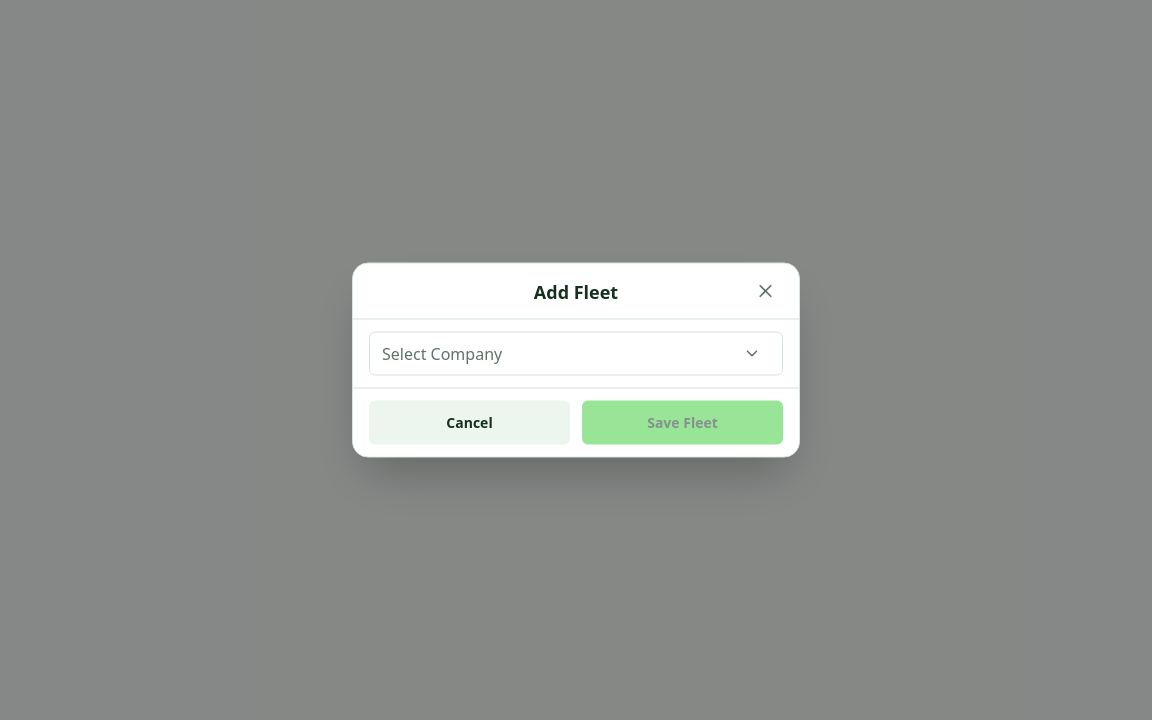
Test: ActiveFleetAddSheet › reveals paired Company/Pile fields and defaults to New Fleet after a valid Pile
Click the dropdown labelled "Company". click: (554, 354)
box: [382,342,726,366]
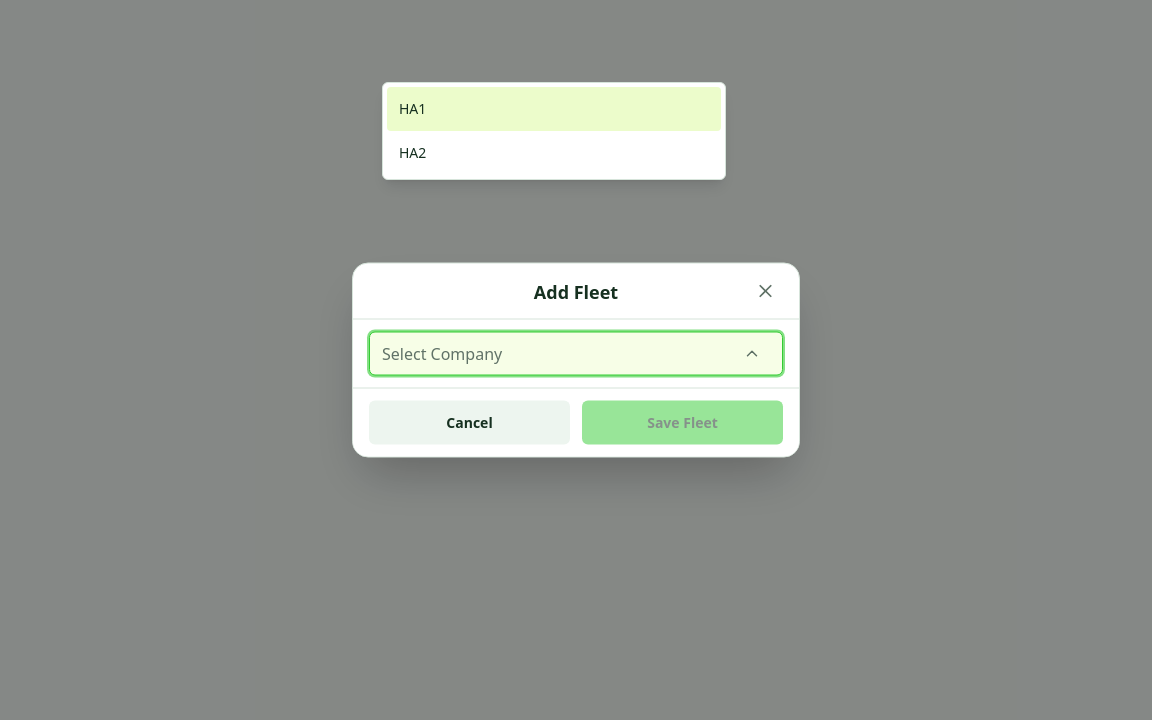
Click the option "HA1". click: (413, 108)
box: [387,86,721,130]
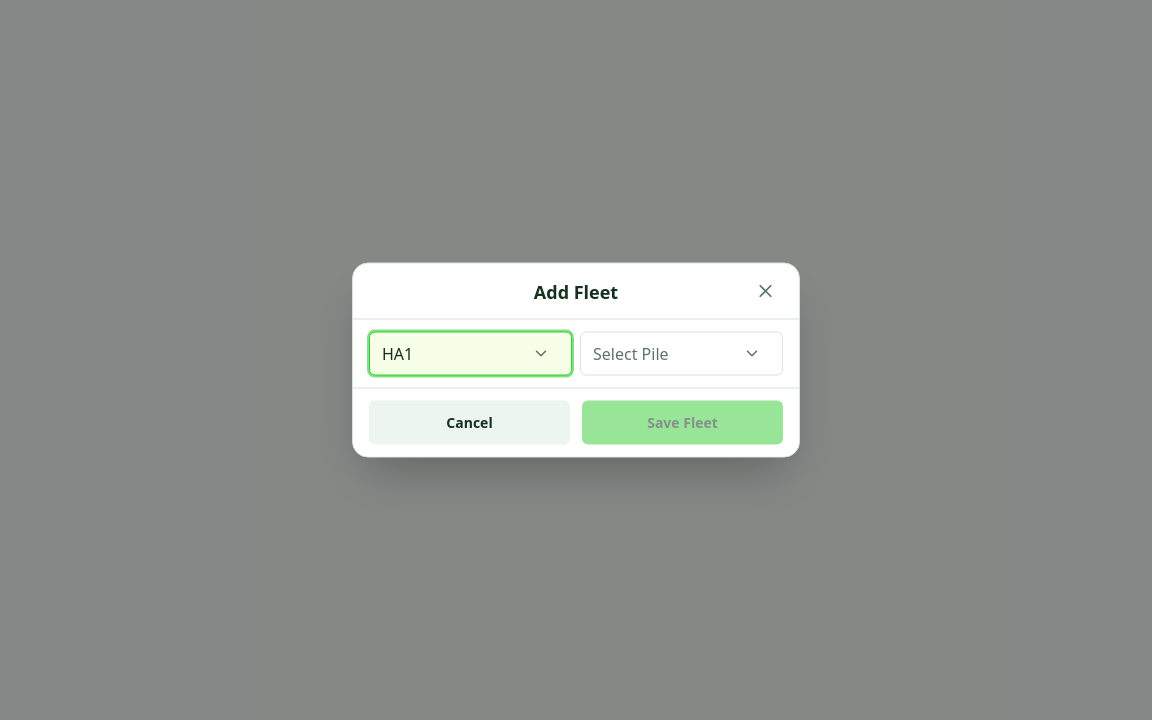
Type "S7" into the dropdown labelled "Pile". click: (660, 354)
box: [593,342,726,366]
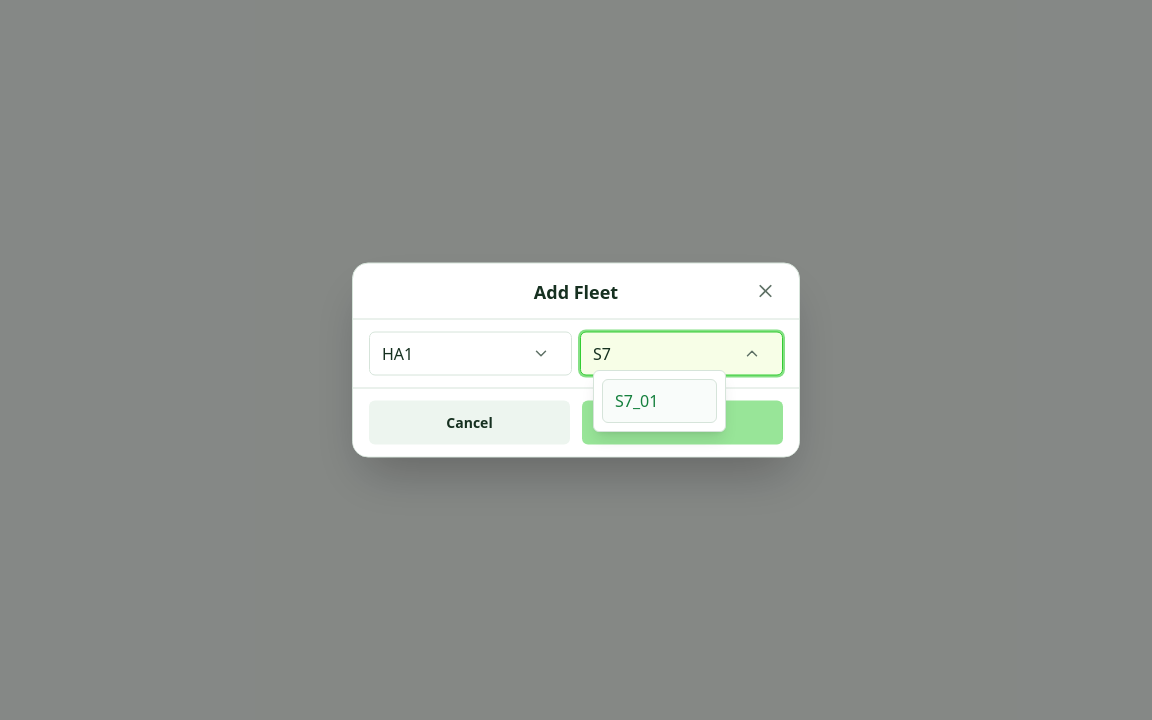
Click the option "S7_01". click: (660, 400)
box: [602,378,717,422]
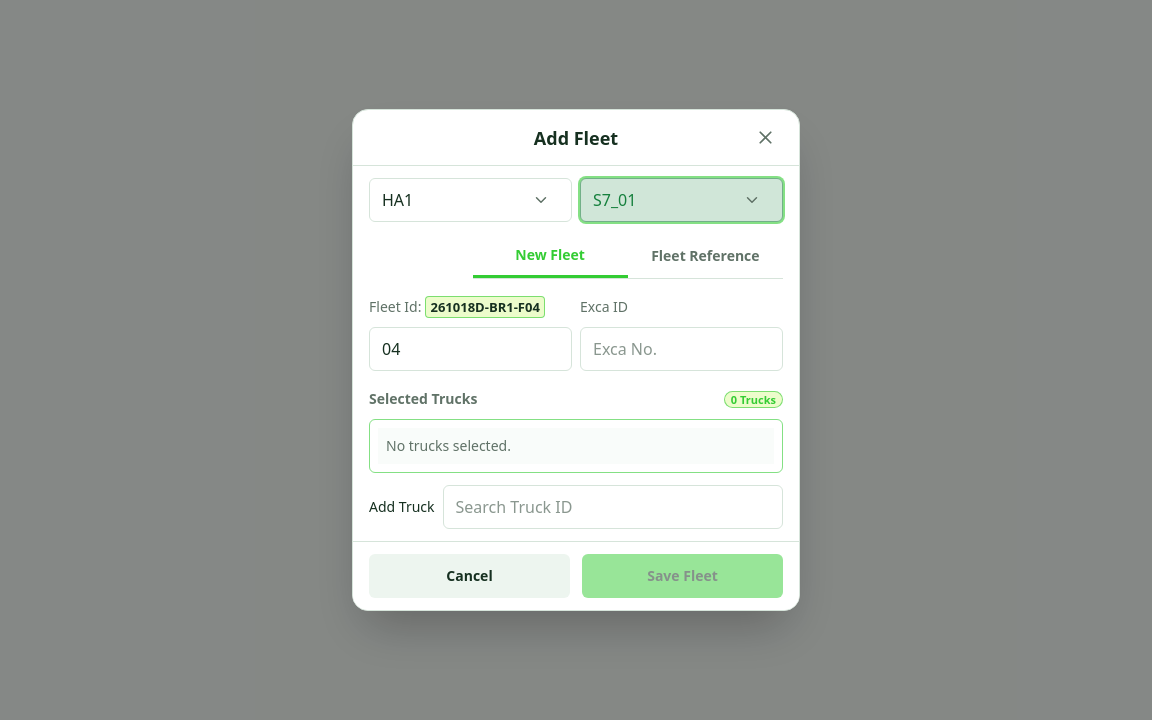
Check: the button "Fleet Reference" is shown, box [628,234,783,278]
Check: the button "New Fleet" is shown, box [472,234,628,278]
Check: the dropdown named "Pile" holds "S7_01", box [593,188,726,212]
